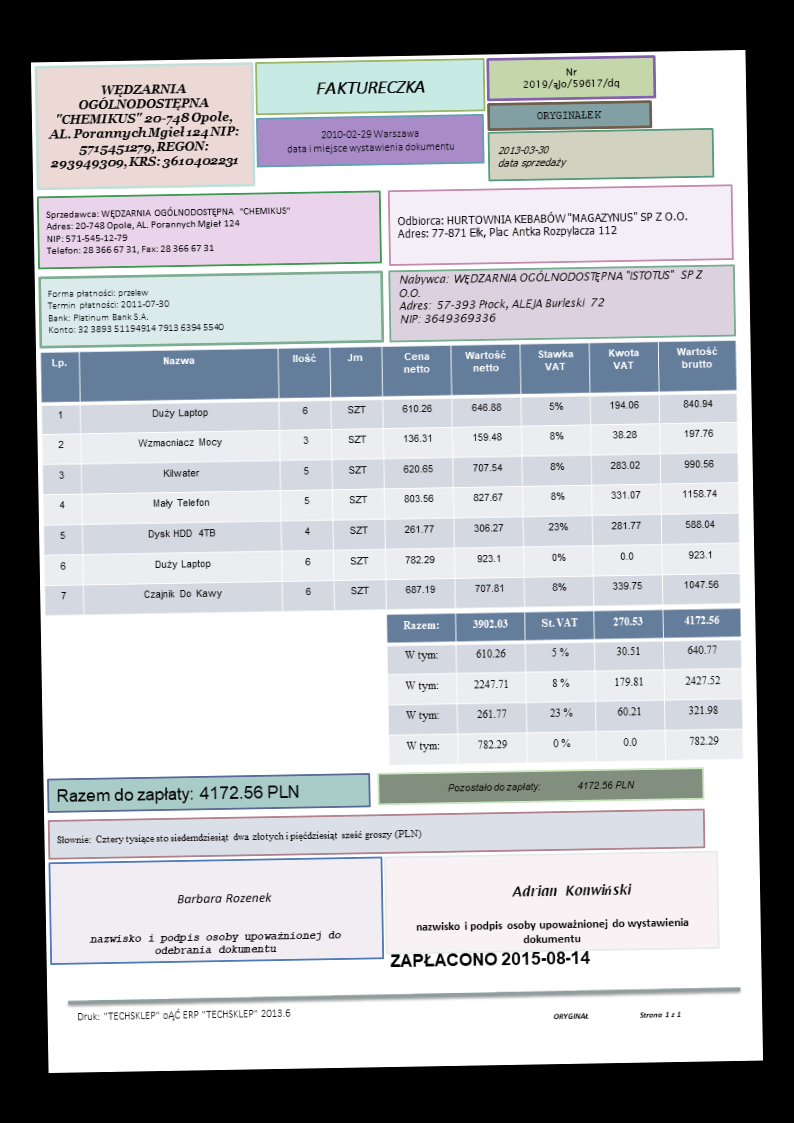Table: (38, 339, 743, 619), (384, 606, 745, 767)
TextBox: (396, 265, 706, 327), (45, 80, 243, 174), (42, 203, 294, 259), (394, 207, 690, 243), (413, 913, 694, 947), (46, 283, 224, 336), (54, 825, 424, 849), (88, 925, 344, 959), (55, 780, 301, 807), (283, 123, 456, 157), (387, 946, 590, 971), (74, 1003, 295, 1024), (444, 777, 636, 797), (521, 64, 623, 93), (313, 75, 427, 97), (495, 139, 569, 172), (509, 881, 633, 900), (552, 1006, 684, 1023), (173, 889, 276, 907), (533, 106, 604, 122)
